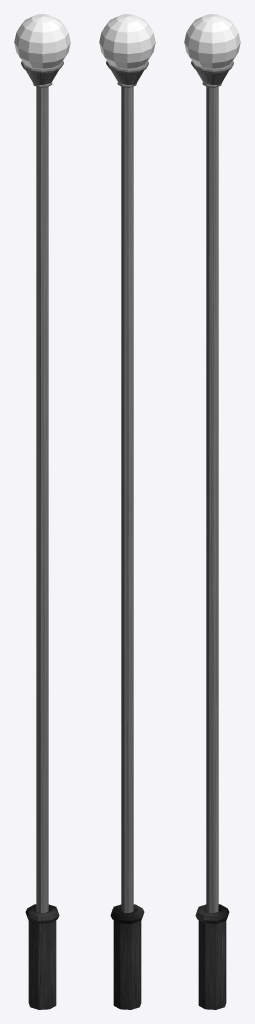
The model's file is Lightpost2.obj.
The picture shows the model from 3 angles, left to right: view 1: azimuth 30°, elevation 25°; view 2: azimuth 150°, elevation 25°; view 3: azimuth 330°, elevation 25°; orthographic projection.
Parts seen in each view (by area): view 1: pTorus2_blinn2SG, pTorus2_blinn1SG, pTorus2_phong2SG, pTorus2_blinn3SG, pTorus2_blinn1SG2; view 2: pTorus2_blinn2SG, pTorus2_blinn1SG, pTorus2_phong2SG, pTorus2_blinn3SG, pTorus2_blinn1SG2; view 3: pTorus2_blinn2SG, pTorus2_blinn1SG, pTorus2_phong2SG, pTorus2_blinn3SG, pTorus2_blinn1SG2.
Part boxes in pixels (box(x1,y1,x2,y2)): pTorus2_blinn2SG: box(36, 86, 48, 912); pTorus2_blinn1SG: box(28, 920, 56, 1009); pTorus2_phong2SG: box(14, 14, 70, 68); pTorus2_blinn3SG: box(21, 61, 63, 85); pTorus2_blinn1SG2: box(25, 904, 59, 923); pTorus2_blinn2SG: box(121, 86, 133, 912); pTorus2_blinn1SG: box(113, 920, 141, 1009); pTorus2_phong2SG: box(99, 14, 155, 68); pTorus2_blinn3SG: box(106, 61, 148, 85); pTorus2_blinn1SG2: box(110, 904, 144, 923); pTorus2_blinn2SG: box(206, 86, 218, 912); pTorus2_blinn1SG: box(198, 920, 226, 1009); pTorus2_phong2SG: box(184, 14, 240, 68); pTorus2_blinn3SG: box(191, 61, 233, 85); pTorus2_blinn1SG2: box(195, 904, 229, 923).
Bounding box in the file's own units: 0.3091 × 5.95 × 0.3091.
